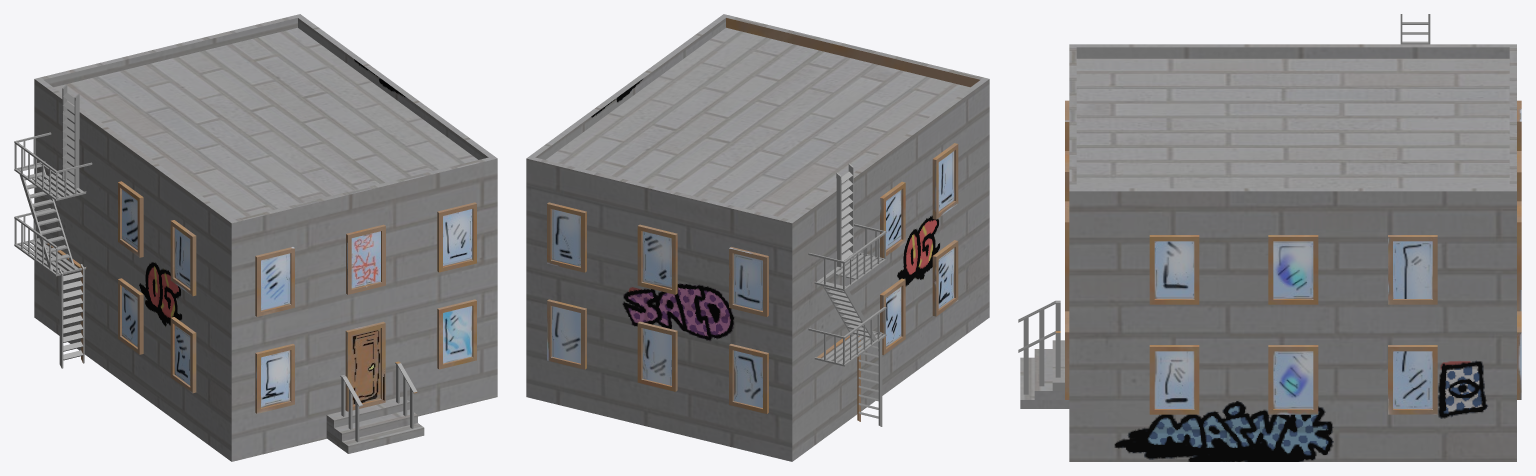
Rendered from type2building_1.fbx.
3 renders of one model, left to right at view 1: azimuth 30°, elevation 25°; view 2: azimuth 150°, elevation 25°; view 3: azimuth 270°, elevation 25°, orthographic. The views are drawn at different scales.
Parts seen in each view (by area): view 1: Cube.010; view 2: Cube.010; view 3: Cube.010.
Boxes of the visible parts, left/top/right/bottom form: Cube.010: left=14, top=14, right=497, bottom=461; Cube.010: left=526, top=14, right=989, bottom=461; Cube.010: left=1018, top=14, right=1521, bottom=461.
Size of the model in its own units: 1610 by 1323 by 2024.
